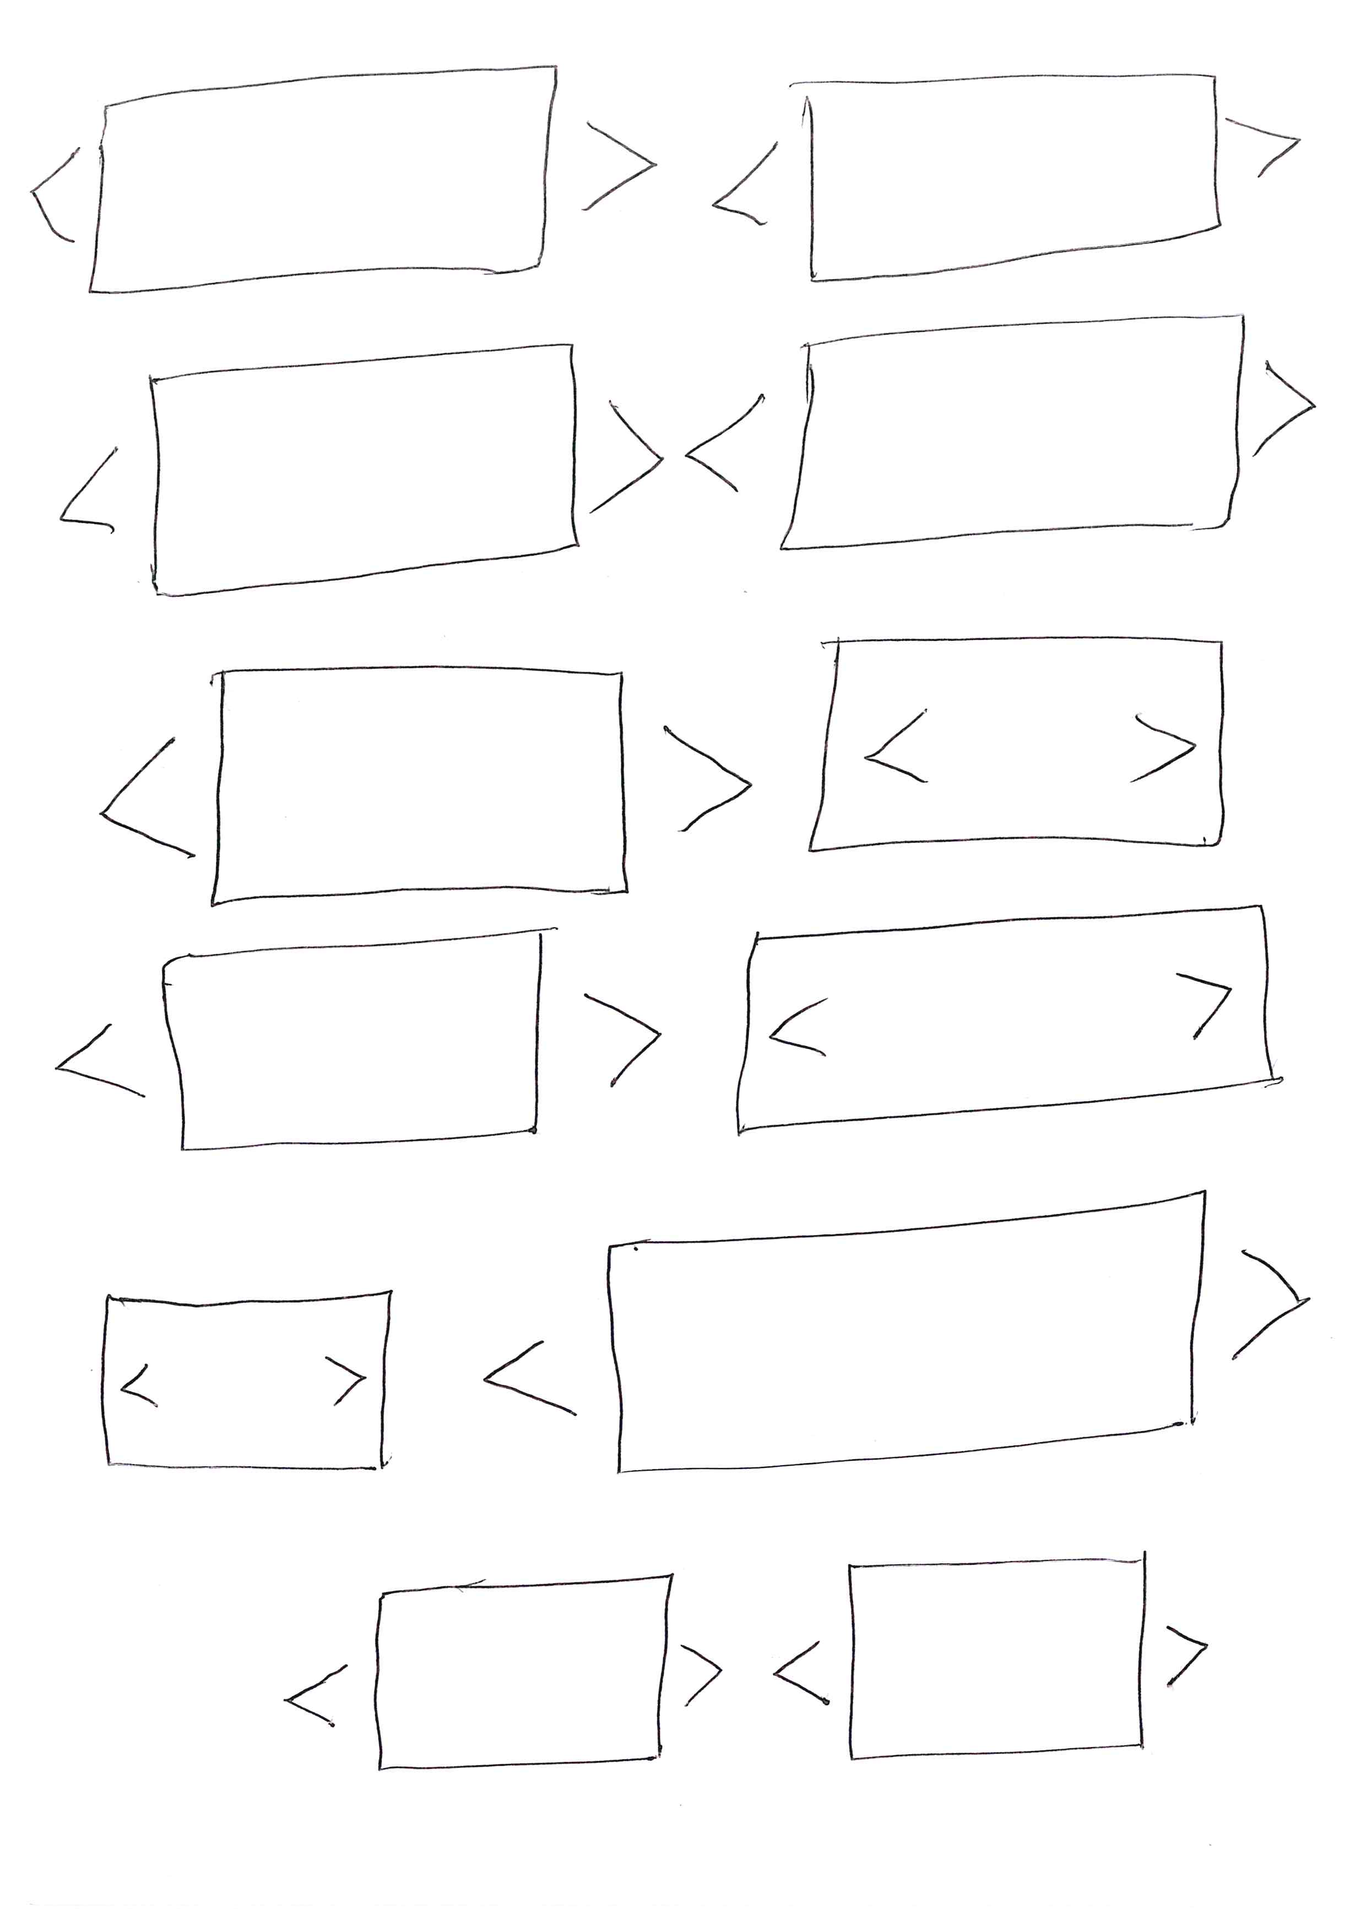Carousel: (479, 1184, 1314, 1479), (99, 659, 757, 906), (55, 342, 665, 605), (684, 312, 1326, 557), (30, 64, 659, 299), (47, 927, 662, 1158), (727, 902, 1277, 1141), (704, 68, 1307, 285), (798, 631, 1233, 856), (770, 1554, 1220, 1762), (276, 1567, 721, 1774), (98, 1285, 396, 1476)
